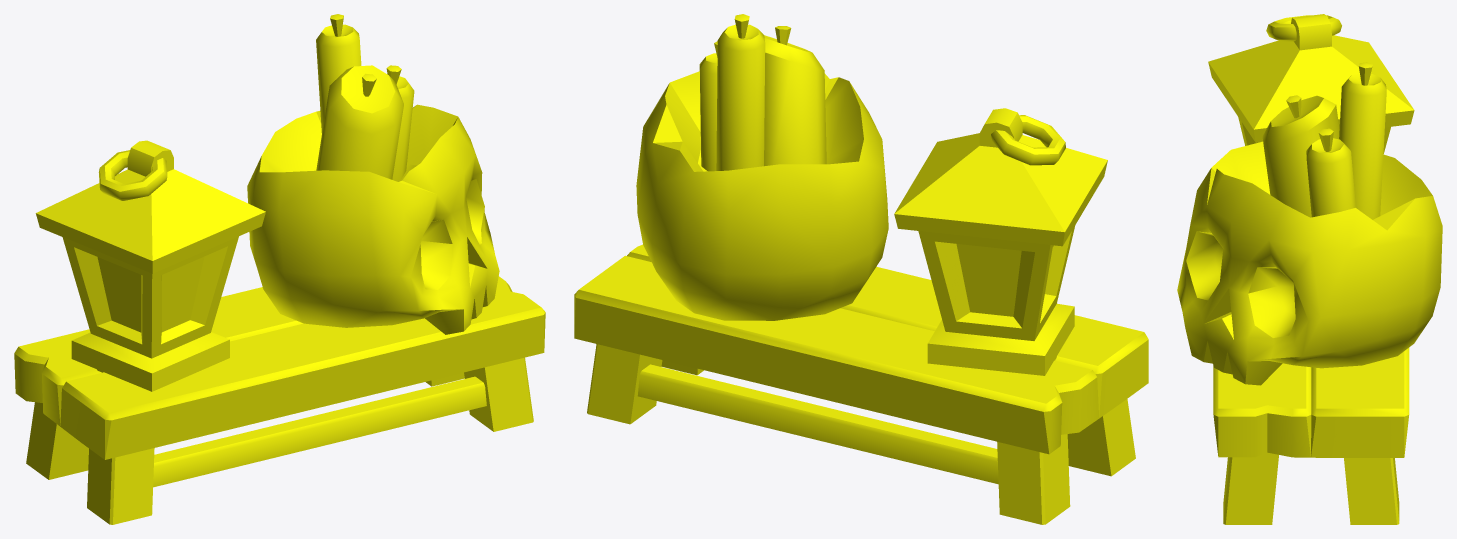
The model's file is kaykit-bench-decorated.glb.
3 renders of one model, left to right at view 1: azimuth 30°, elevation 25°; view 2: azimuth 150°, elevation 25°; view 3: azimuth 270°, elevation 25°, orthographic. The views are drawn at different scales.
Visible parts, largest first — view 1: bench_decorated; view 2: bench_decorated; view 3: bench_decorated.
Boxes of the visible parts, x1,y1,x2,y2 form: bench_decorated: (14, 14, 545, 524); bench_decorated: (574, 14, 1148, 524); bench_decorated: (1177, 14, 1442, 524).
Size of the model in its own units: 2 by 1.68 by 1.02.
